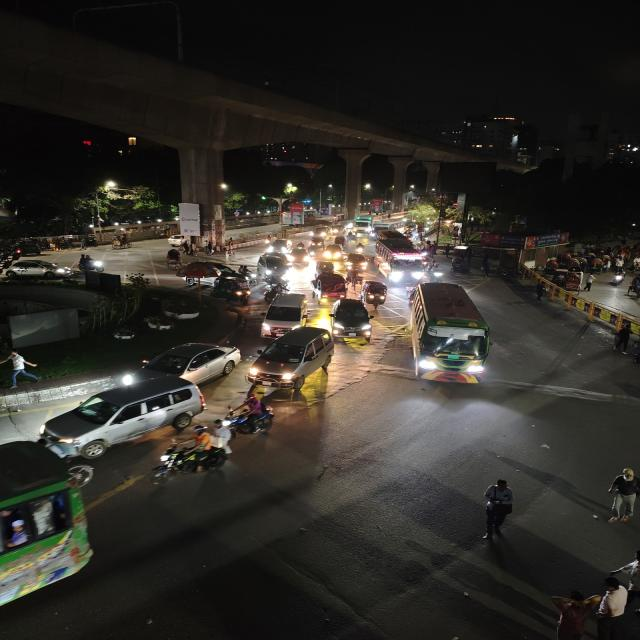bus: (0, 437, 100, 617), (408, 279, 490, 388), (373, 238, 426, 282)
car: (39, 376, 204, 456), (246, 325, 339, 393), (122, 334, 244, 383), (258, 290, 310, 336), (326, 299, 375, 343), (5, 258, 74, 279), (257, 254, 292, 279), (322, 242, 344, 262), (344, 254, 366, 272), (270, 238, 291, 255), (290, 248, 309, 264), (165, 234, 185, 247)
cng: (211, 275, 252, 306), (359, 277, 390, 305), (309, 237, 325, 250)
motorcycle: (147, 422, 232, 483), (222, 395, 276, 433), (75, 252, 110, 272), (432, 266, 444, 284)
pedestrian: (481, 475, 518, 544), (605, 460, 640, 524), (3, 349, 44, 393)
pickup_van: (310, 274, 348, 301)
rickshaw: (562, 271, 589, 296), (450, 256, 476, 278), (163, 246, 184, 268), (110, 236, 134, 252)
truck: (352, 214, 374, 237)
